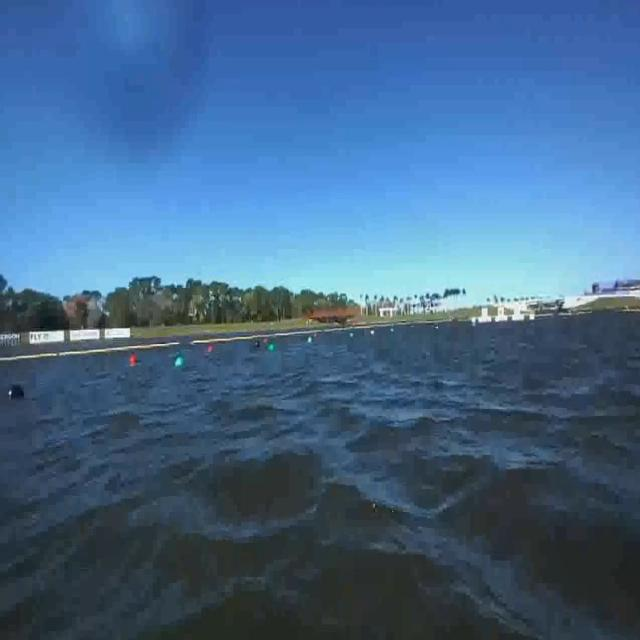black-buoy: (6, 378, 27, 407)
green-buoy: (177, 356, 188, 369)
red-buoy: (132, 353, 138, 367)
